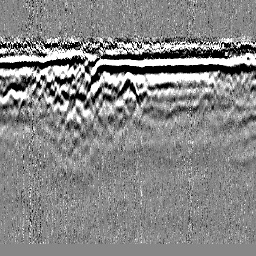cavity: (117, 71, 139, 104)
